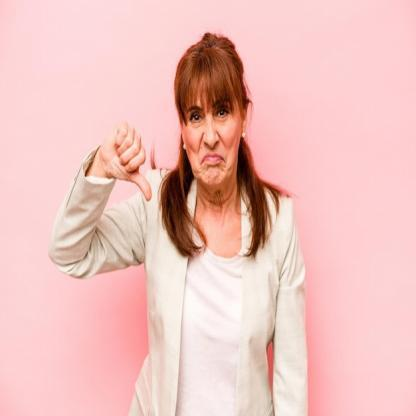thumb_down: (98, 116, 158, 206)
